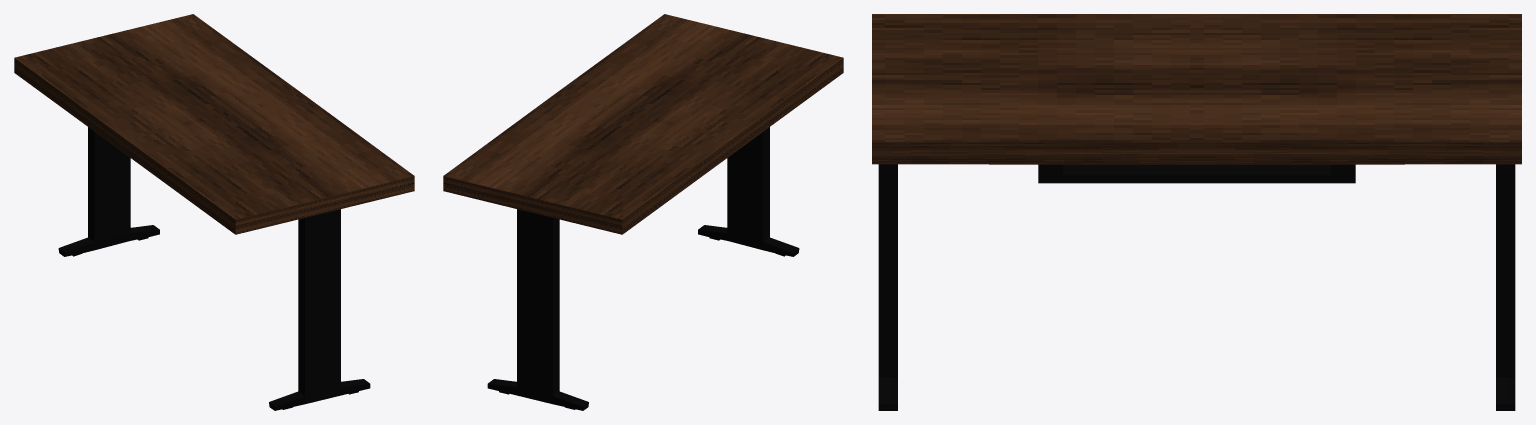
File: computer desk.glb
3 renders of one model, left to right at view 1: azimuth 30°, elevation 25°; view 2: azimuth 150°, elevation 25°; view 3: azimuth 270°, elevation 25°, orthographic. The views are drawn at different scales.
Visible parts, largest first — view 1: Computer Desk; view 2: Computer Desk; view 3: Computer Desk.
Part boxes in pixels (x1,y1,x2,y2): Computer Desk: [14, 14, 414, 410]; Computer Desk: [443, 14, 843, 410]; Computer Desk: [872, 14, 1521, 410].
Bounding box in the file's own units: 1.82 × 2 × 3.89.
2 materials, 1 textured.
